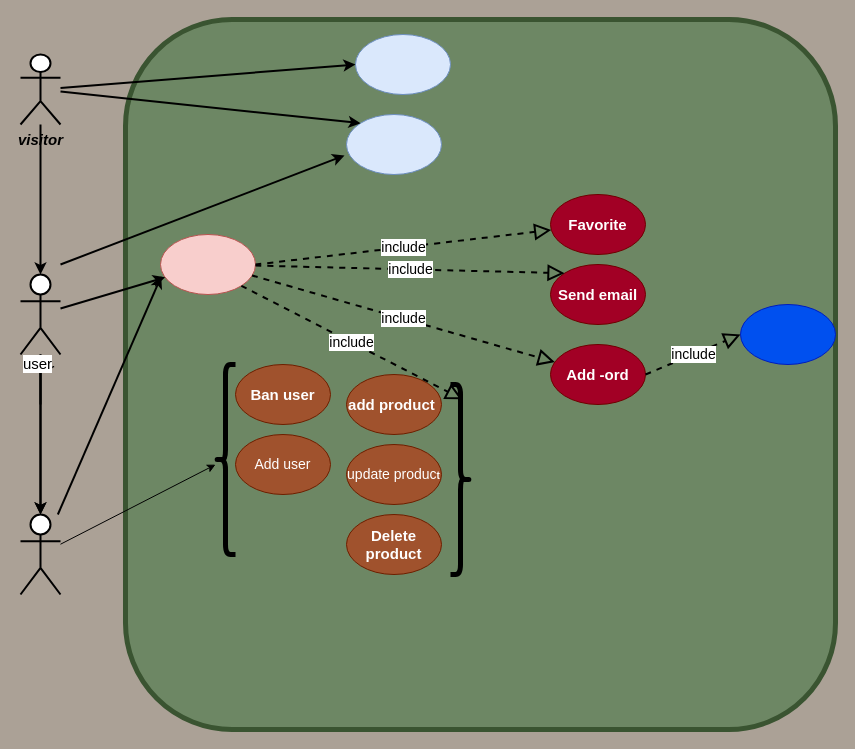
This 855x749 diagram has some shape labels left out. The centre of each missing label's shape, as x and y in pixels:
add categories: the point at 394,144
Admin: the point at 40,554
buy product: the point at 788,334
log in: the point at 208,264
register: the point at 402,64
